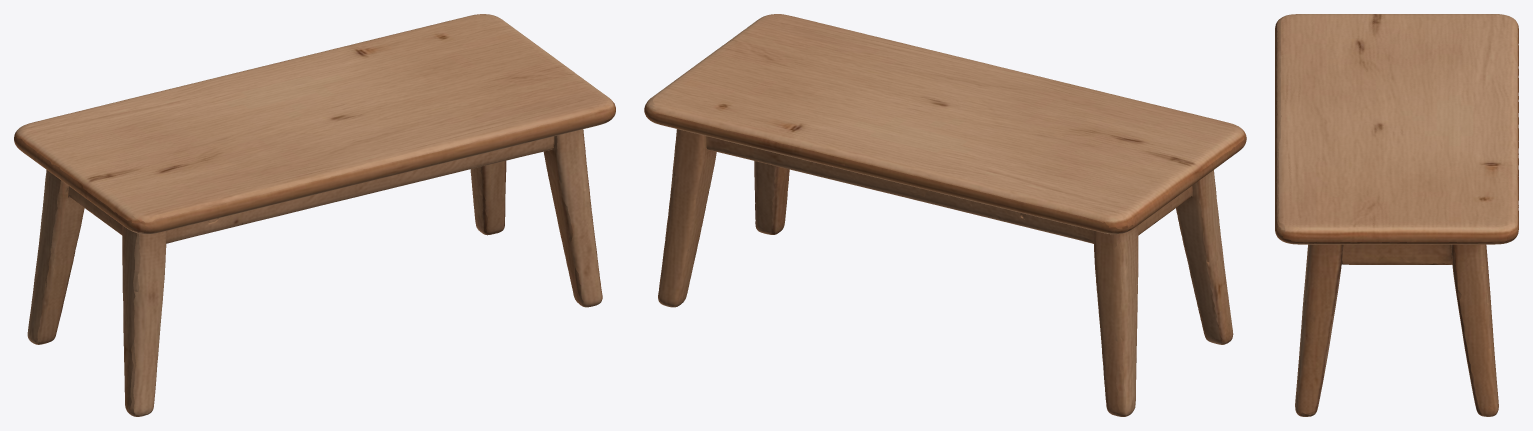
Rendered from L_COFFEE.glb.
The picture shows the model from 3 angles, left to right: view 1: azimuth 30°, elevation 25°; view 2: azimuth 150°, elevation 25°; view 3: azimuth 270°, elevation 25°; orthographic projection. The views are drawn at different scales.
Parts seen in each view (by area): view 1: world; view 2: world; view 3: world.
Boxes of the visible parts, left/top/right/bottom form: world: left=14, top=14, right=615, bottom=416; world: left=644, top=14, right=1246, bottom=416; world: left=1275, top=14, right=1518, bottom=416.
Bounding box in the file's own units: 1.2 × 0.4917 × 0.5634.
Materials: 1 (1 with a texture image).
